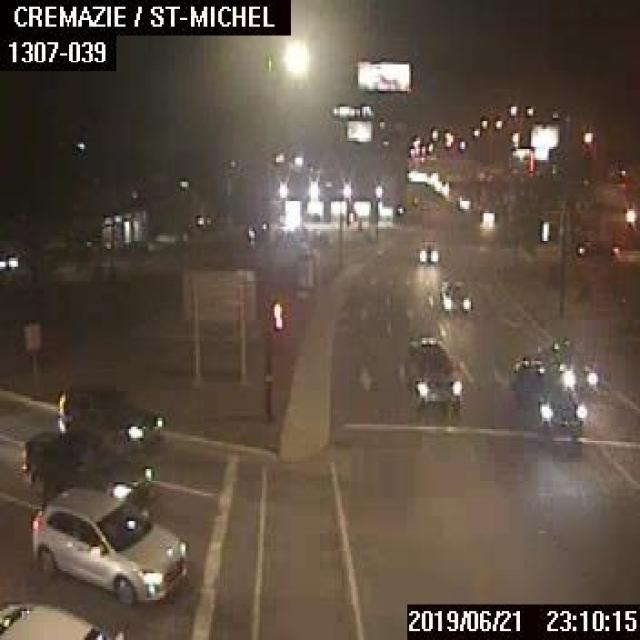vehicle: (28, 485, 189, 603), (21, 430, 152, 504), (56, 382, 161, 451), (509, 354, 585, 428), (0, 598, 124, 638), (400, 333, 462, 402), (543, 336, 596, 393), (438, 280, 473, 313), (576, 238, 618, 257), (413, 239, 440, 262)
